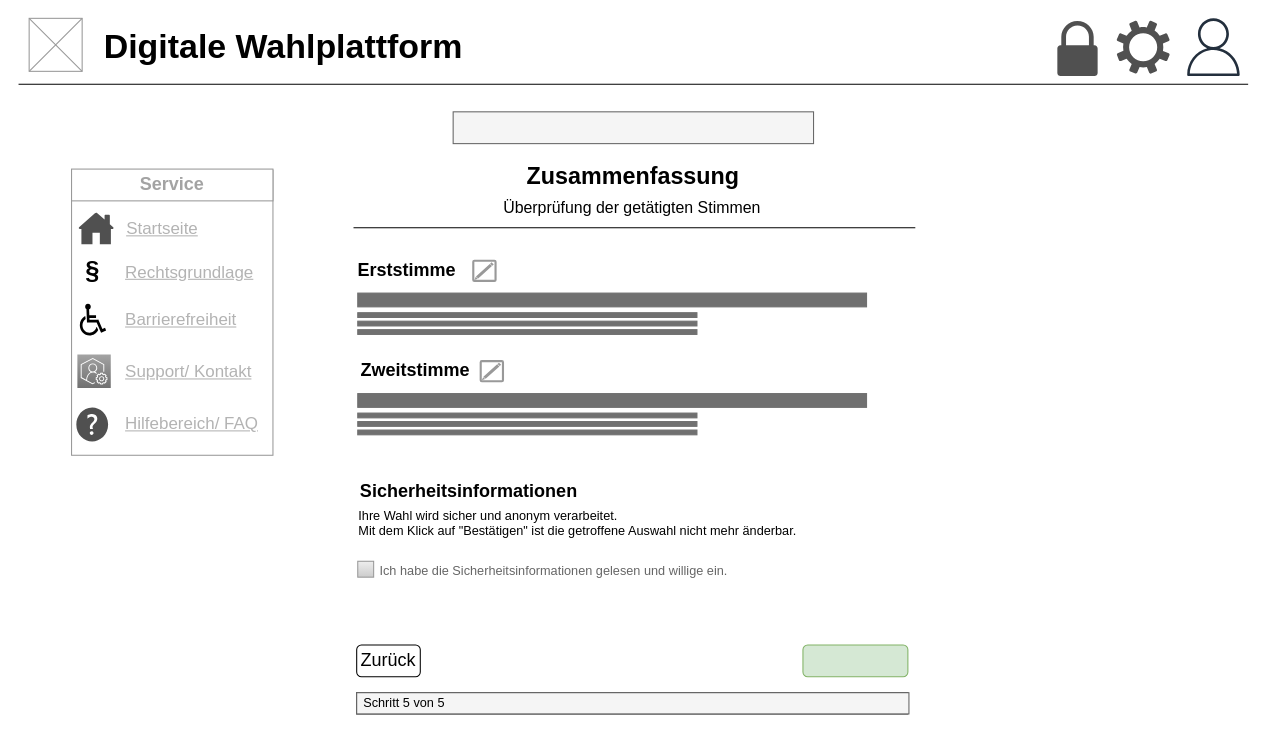
Image size: 1268x738. Some labels were removed from this diagram. The shapes that lost their labels are listed below. From the top down, each one's box as (x1, y1, x2, y2) in pixels, then its label:
(452, 111, 814, 144): Bundestagswahl 2025
(802, 644, 908, 677): Bestätigen
